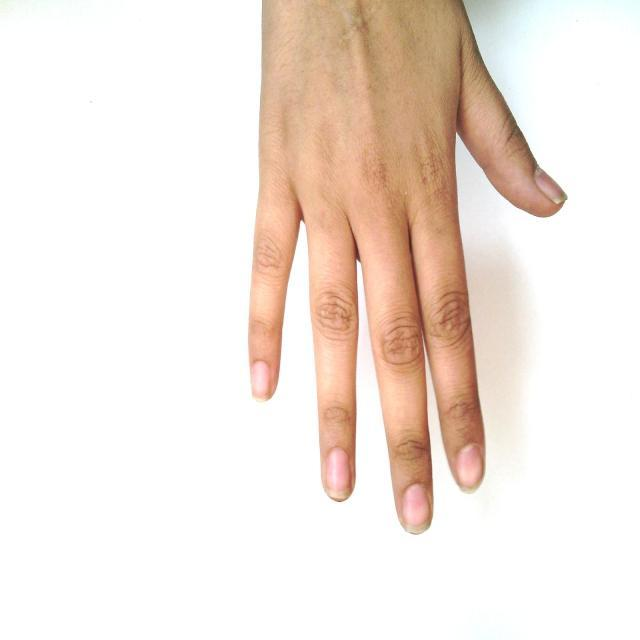Fingernail: (402, 485, 429, 533), (455, 446, 483, 492), (326, 449, 350, 500), (536, 169, 566, 202), (252, 362, 271, 400)
